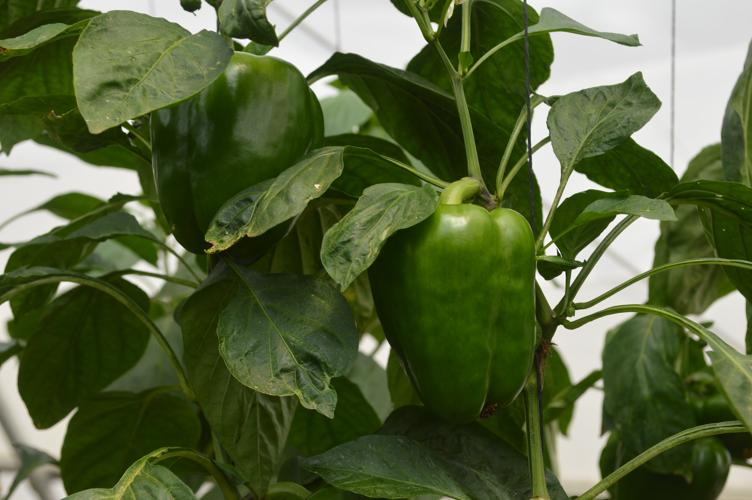BellPepper: (148, 51, 323, 262), (379, 204, 535, 415)
